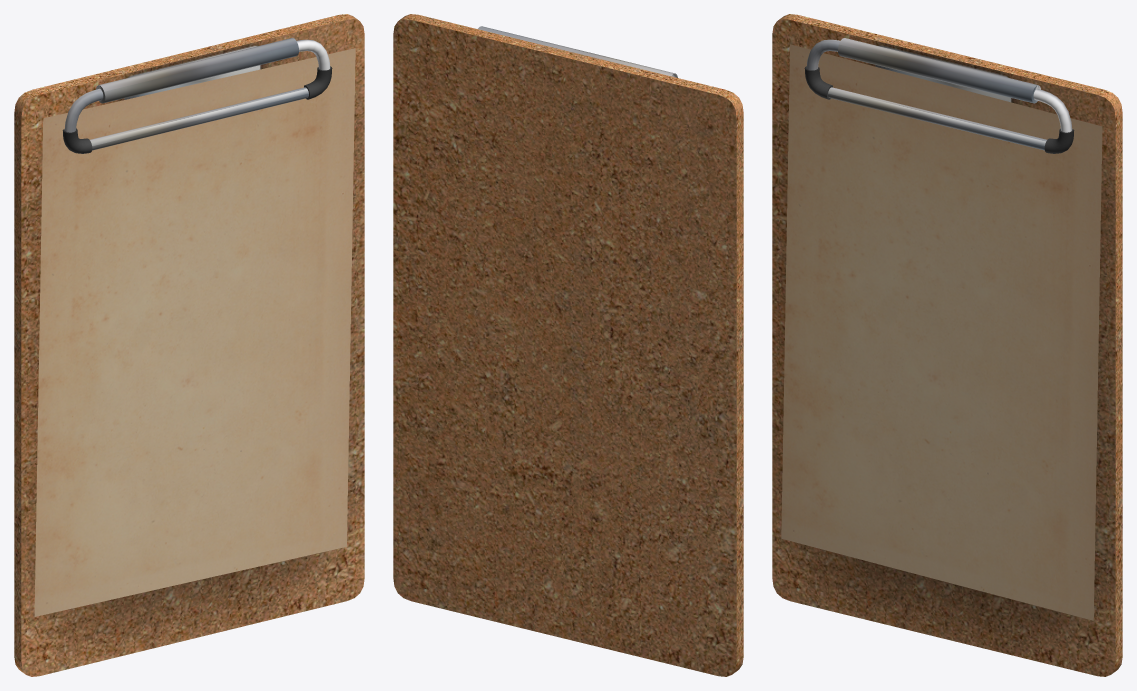
Rendered from clipboard.glb.
3 renders of one model, left to right at view 1: azimuth 30°, elevation 25°; view 2: azimuth 150°, elevation 25°; view 3: azimuth 330°, elevation 25°, orthographic.
Parts seen in each view (by area): view 1: Box001; view 2: Box001; view 3: Box001.
Boxes of the visible parts, <box> form: Box001: <box>14,14,364,676</box>; Box001: <box>393,14,743,676</box>; Box001: <box>772,14,1122,676</box>.
Bounding box in the file's own units: 0.4775 × 0.7726 × 0.0389.
Materials: 1 (1 with a texture image).
